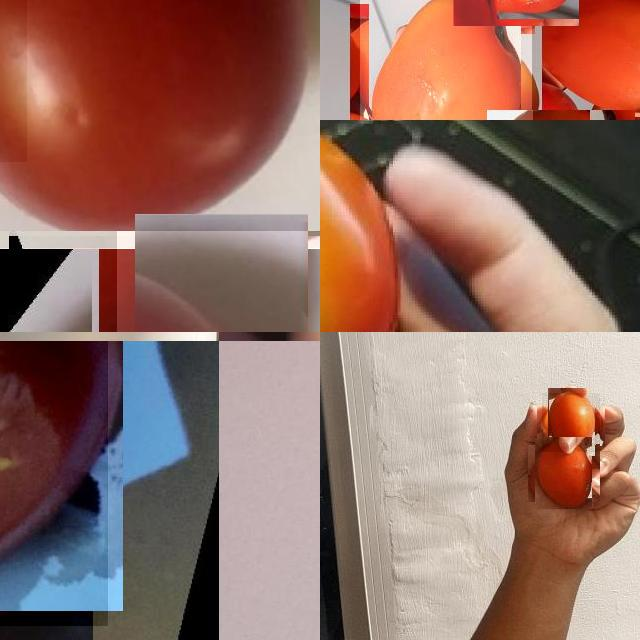Fresh Tomato: (0, 0, 320, 240), (360, 0, 532, 120), (117, 231, 320, 332), (535, 0, 640, 116), (532, 441, 596, 506), (542, 394, 600, 452), (454, 0, 579, 26)
Rotten Tomato: (0, 341, 107, 626)
